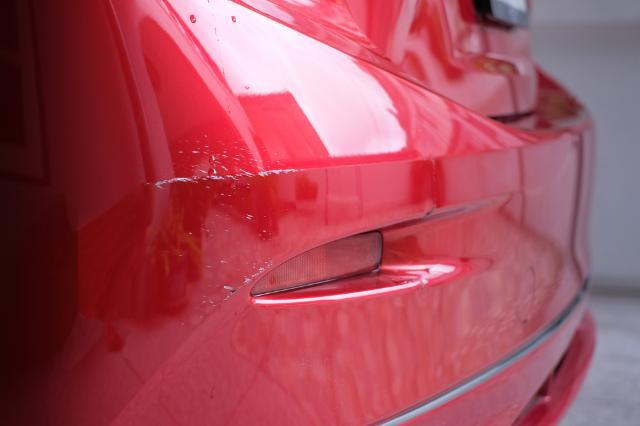scratch: (150, 132, 300, 311)
